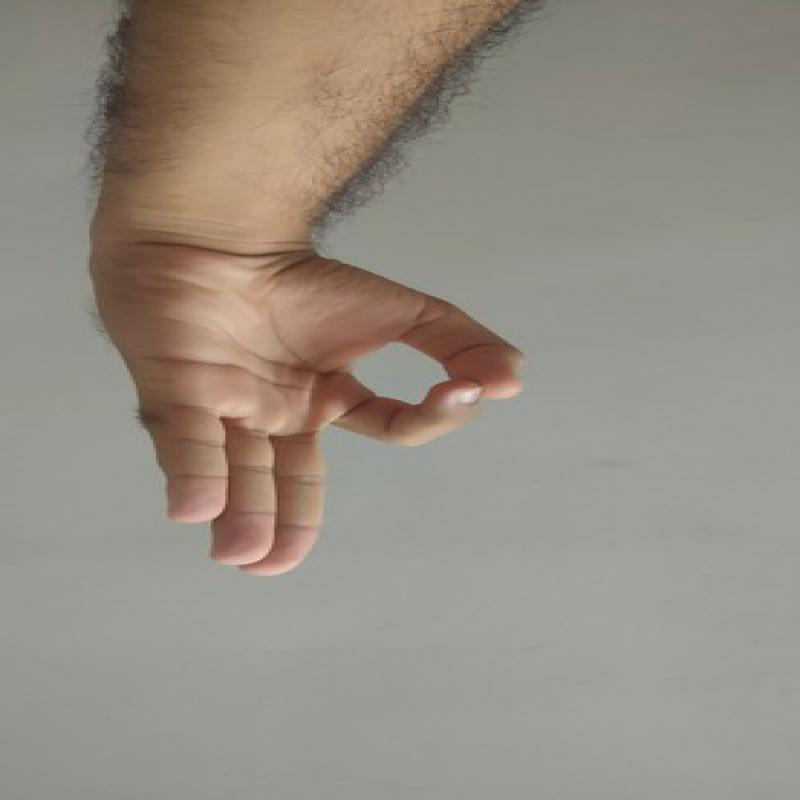Mudraakhyam: (83, 234, 545, 590)
